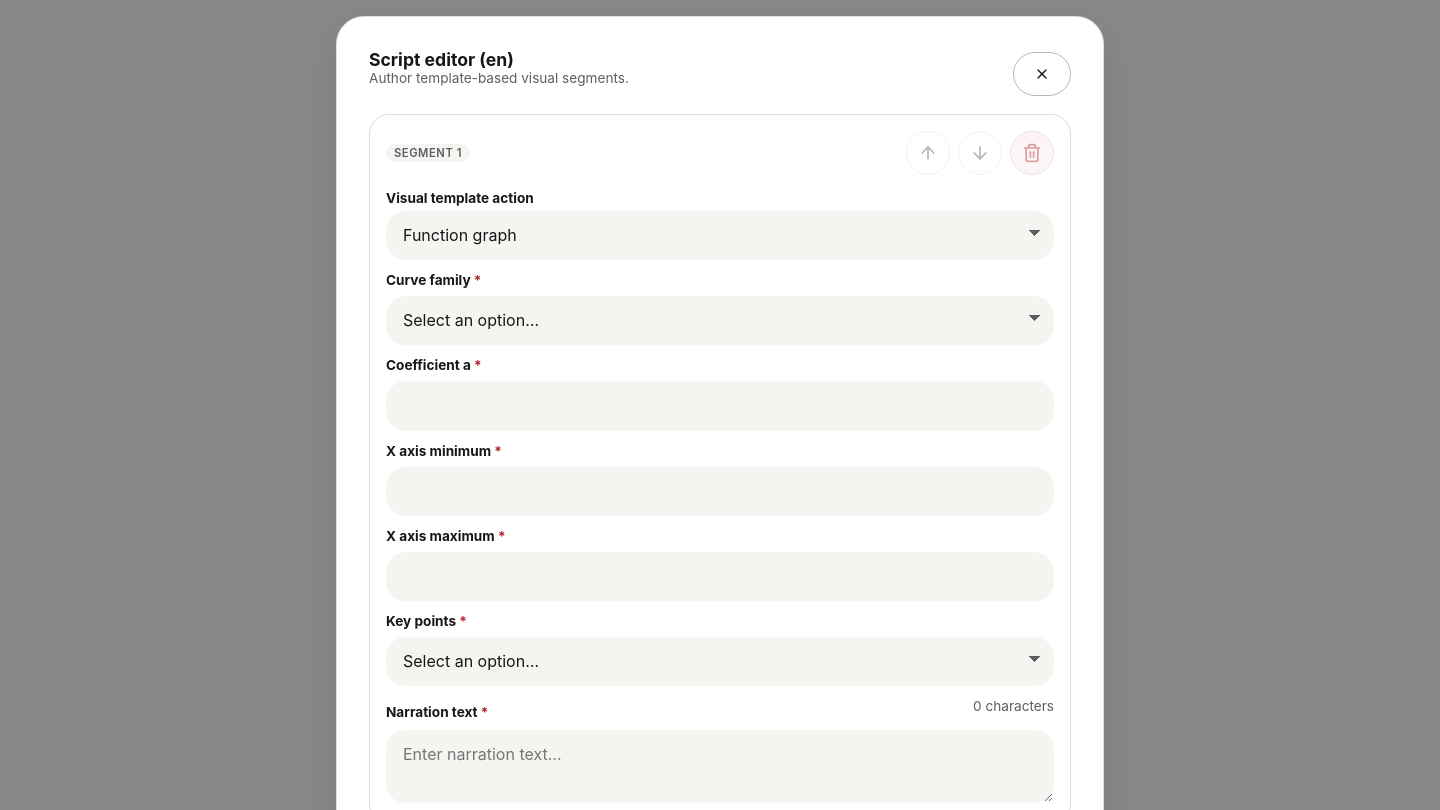
Test: ScriptEditor › reveals family-specific coefficients when their choice token is selected
This screenshot has width=1440, height=810.
Select "POWER" in the dropdown labelled "Curve family *" at coordinates (720, 321), box [386,296,1054,345]
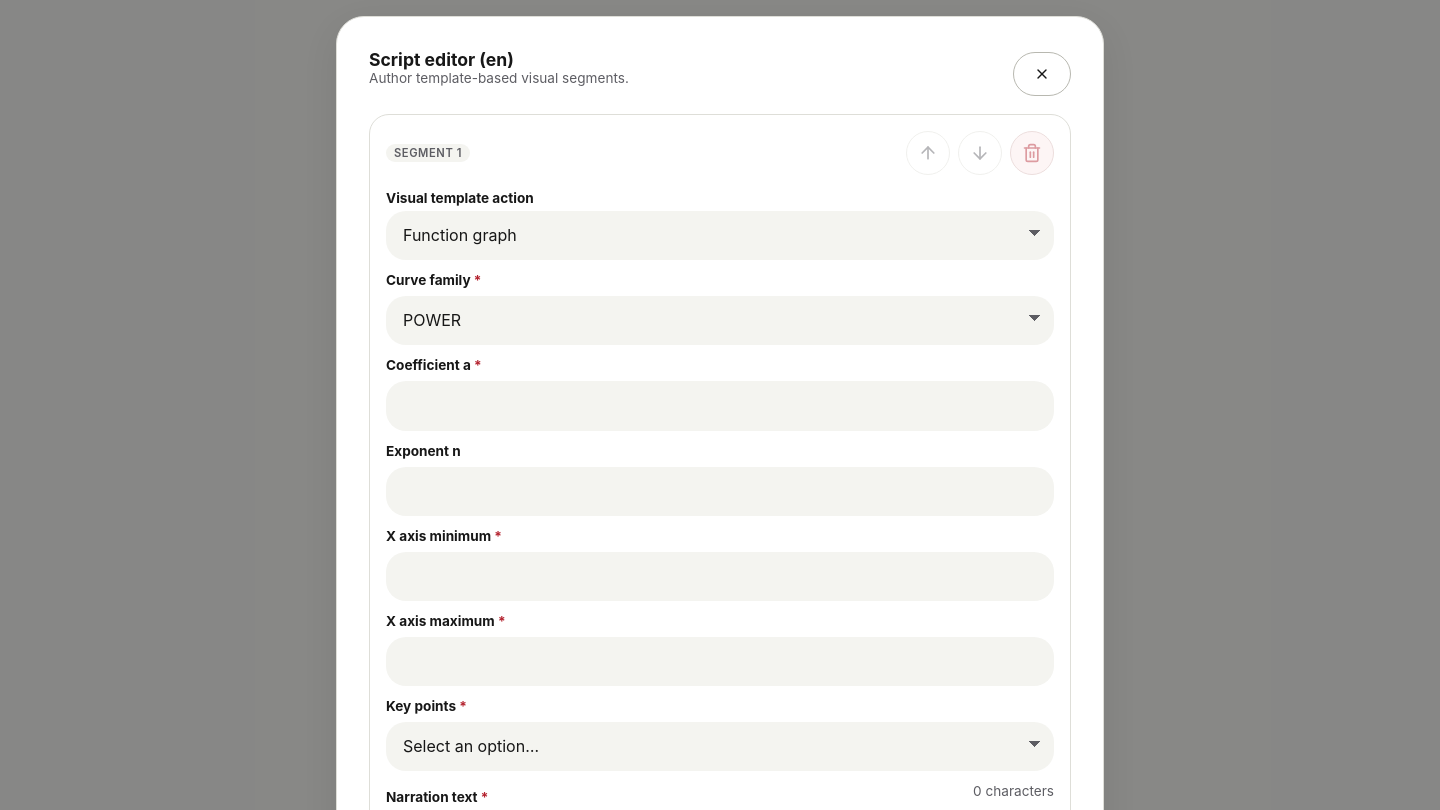
Select "EXP" in the dropdown labelled "Curve family *" at coordinates (720, 321), box [386,296,1054,345]
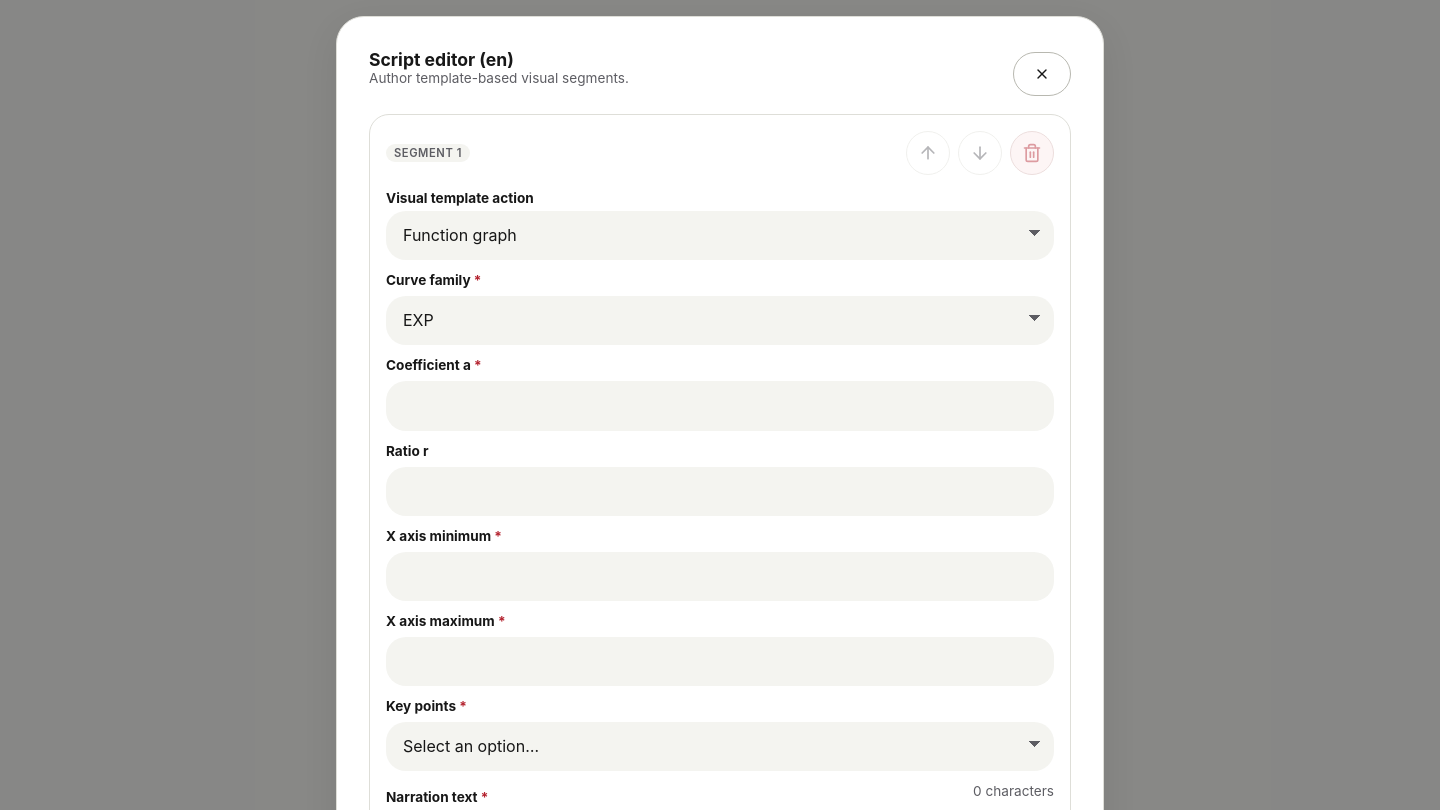
Now the label labelled "Exponent n" is gone
Select "LOG" in the dropdown labelled "Curve family *" at coordinates (720, 321), box [386,296,1054,345]
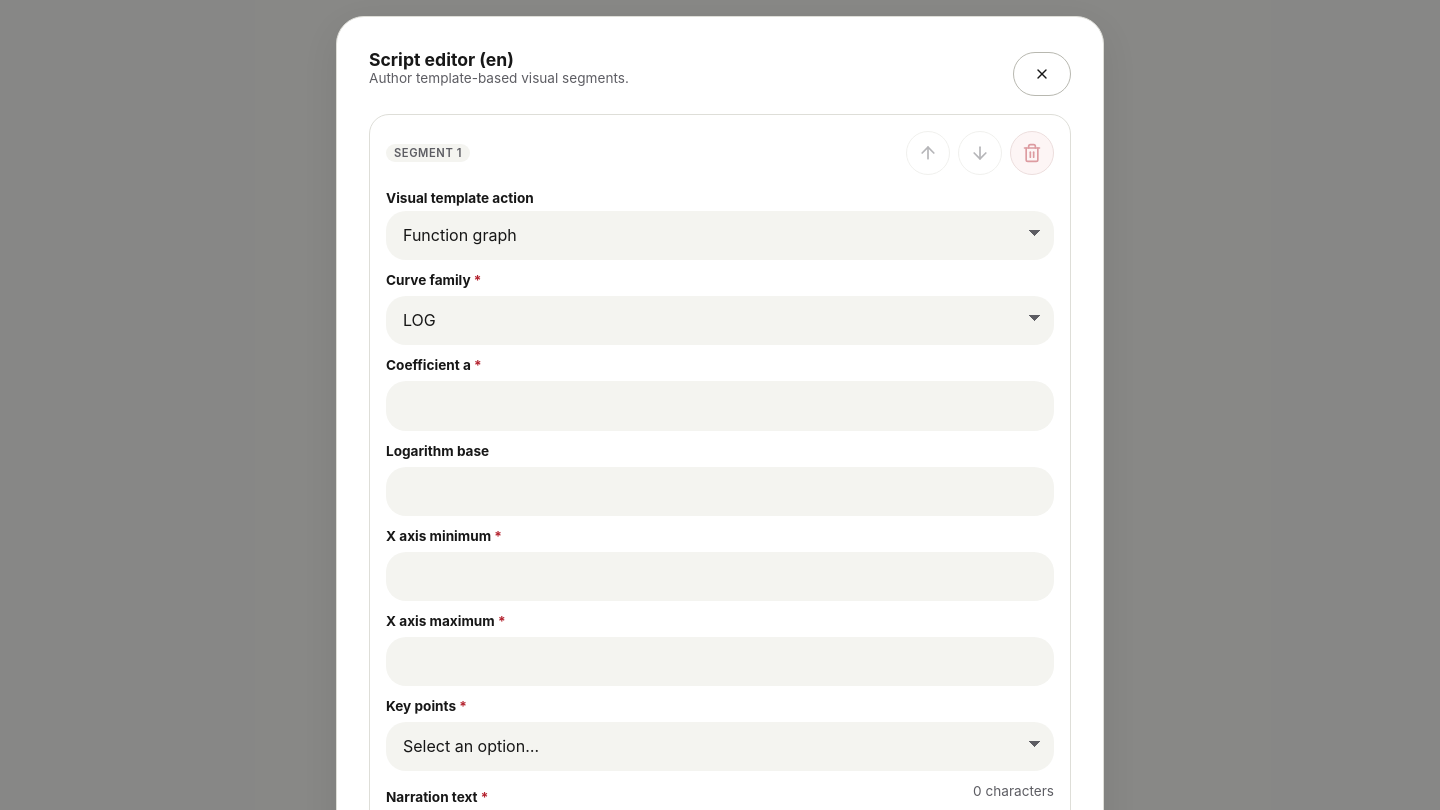
Now the label labelled "Ratio r" is gone
